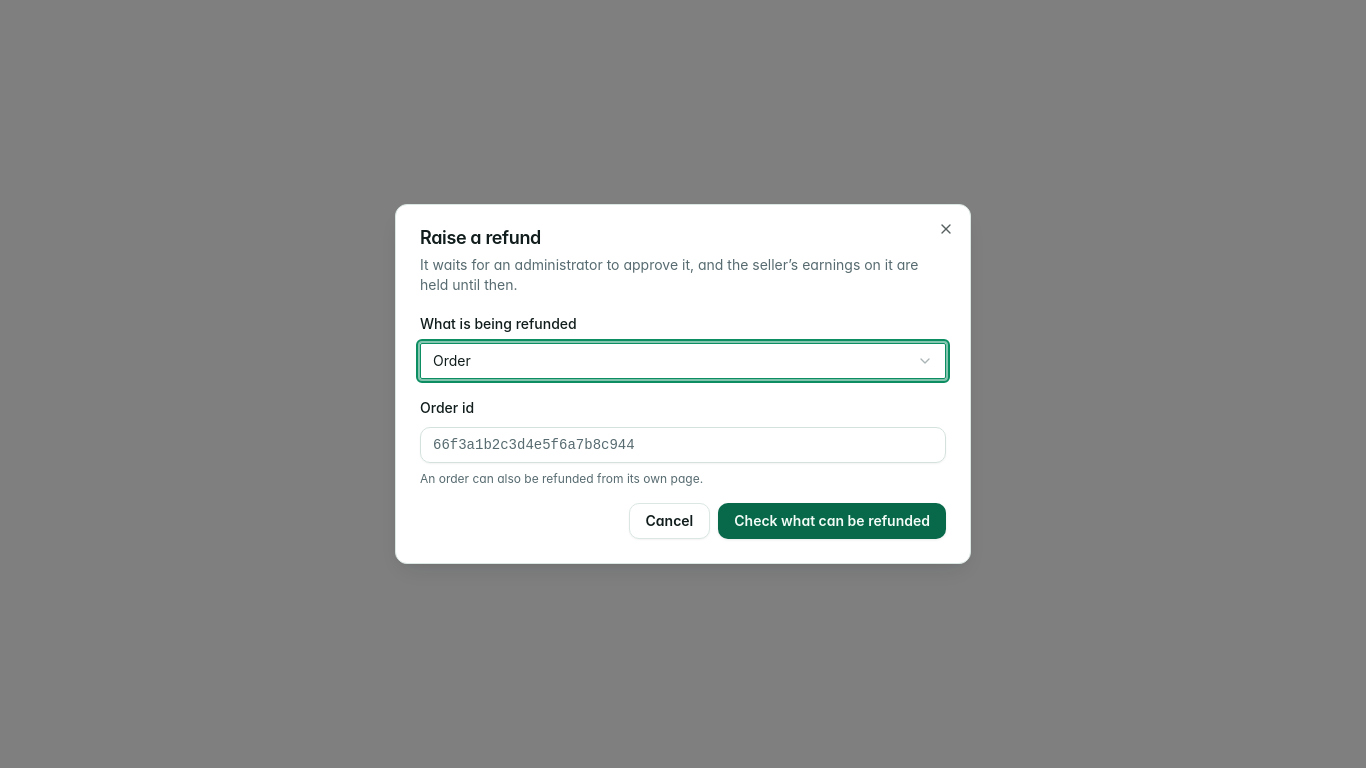
it: raising a refund › asks for the source when raised from the queue
The image size is (1366, 768).
expect the button "Check what can be refunded" is shown: met, box [718, 503, 946, 539]
Type "not-an-id" into the field labelled "Order id" at (683, 445), box [420, 427, 946, 463]
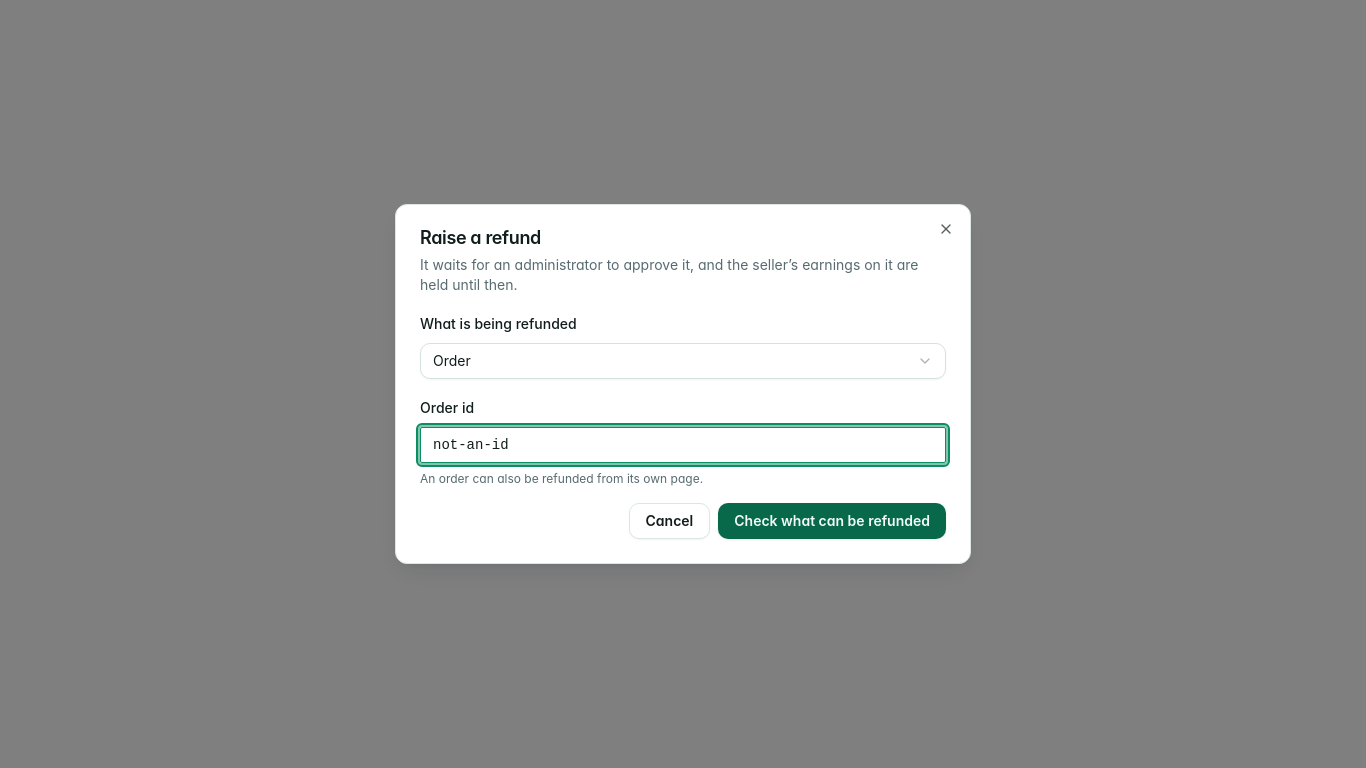
Click the button "Check what can be refunded" at (832, 521), box [718, 503, 946, 539]
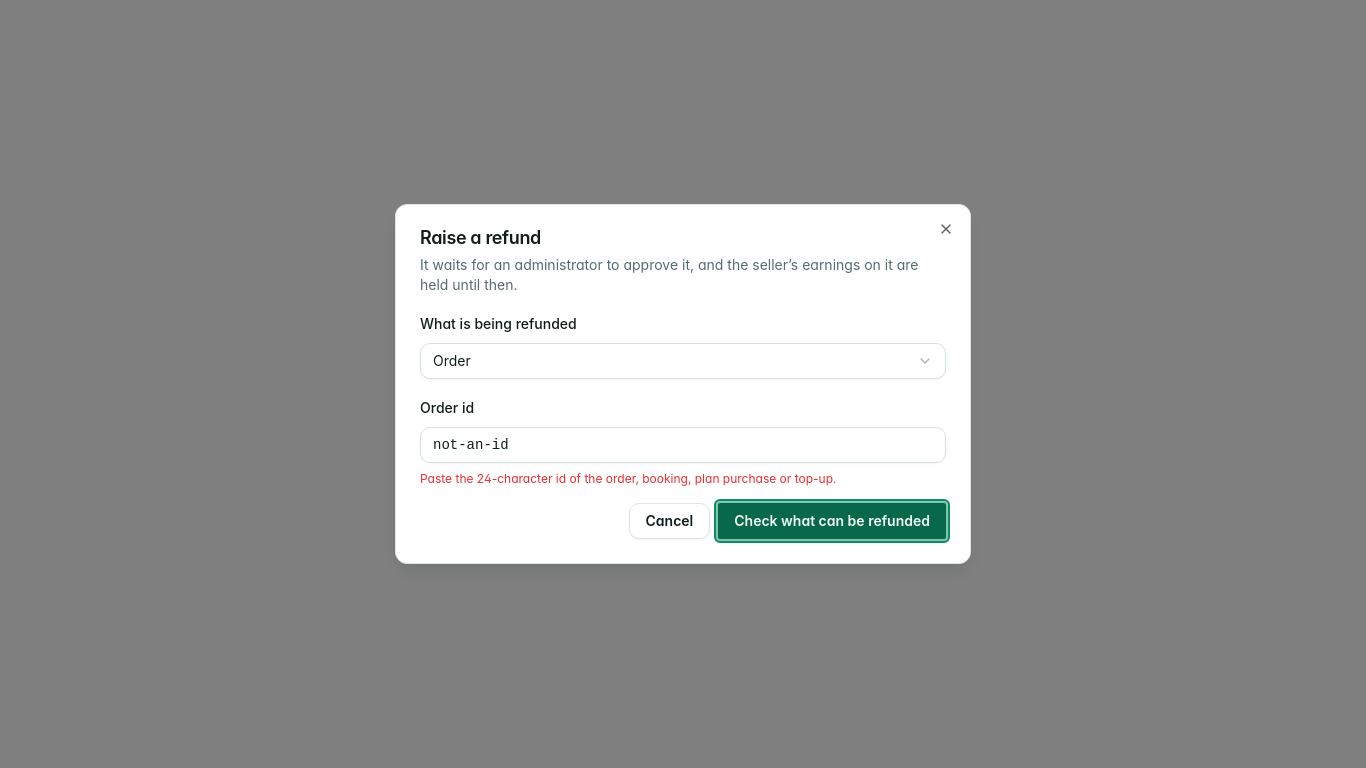
expect the text "Paste the 24-character id of the order, booking, plan purchase or top-up." is shown: met, box [420, 471, 836, 486]
